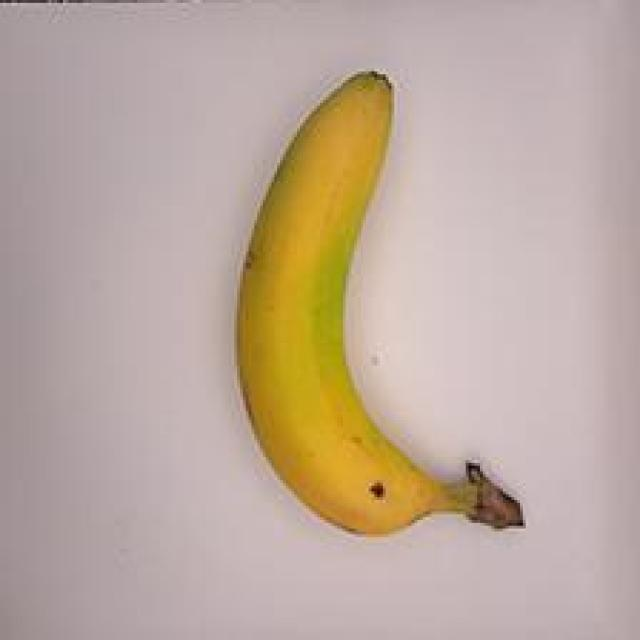unripe: (176, 37, 556, 565)
